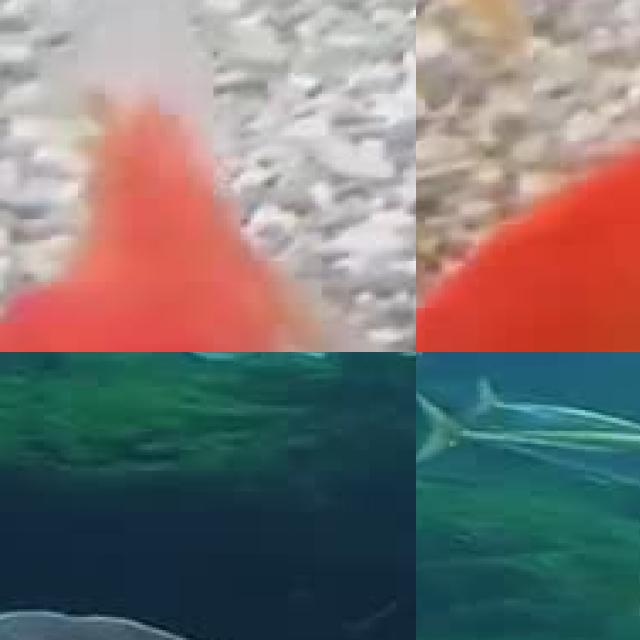fish: (0, 0, 416, 352), (416, 122, 640, 352)
